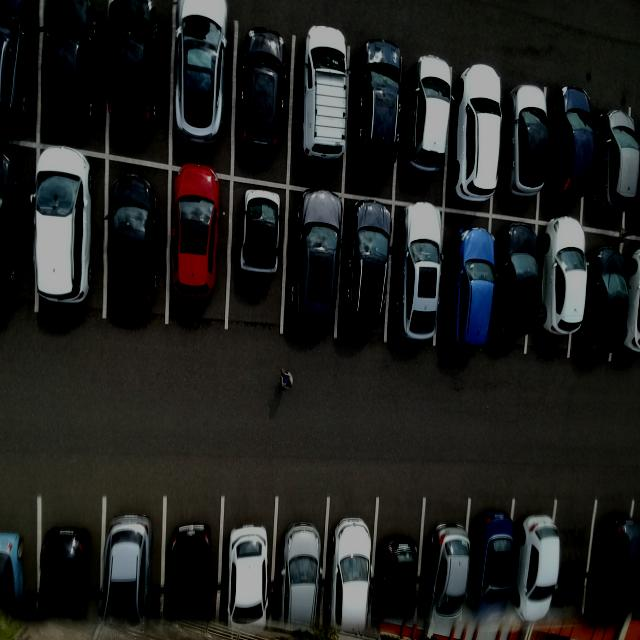car: (30, 145, 97, 312), (392, 201, 447, 344), (175, 1, 228, 149), (291, 188, 346, 330), (104, 1, 162, 135), (169, 161, 223, 300), (43, 1, 99, 135), (453, 64, 505, 203), (301, 26, 351, 166), (108, 172, 158, 309), (346, 198, 396, 335), (353, 41, 403, 178), (447, 227, 498, 353), (237, 26, 287, 154), (469, 510, 520, 628), (539, 218, 589, 338), (502, 79, 551, 200), (547, 85, 596, 204), (589, 105, 640, 218), (406, 56, 453, 177), (515, 510, 564, 625), (495, 222, 543, 338), (422, 522, 471, 628), (585, 245, 629, 352), (238, 189, 285, 279)
